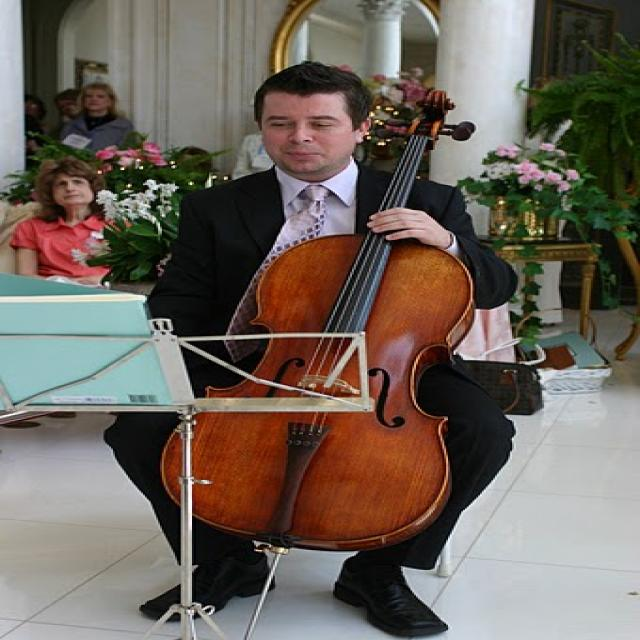cello: (155, 72, 486, 554)
